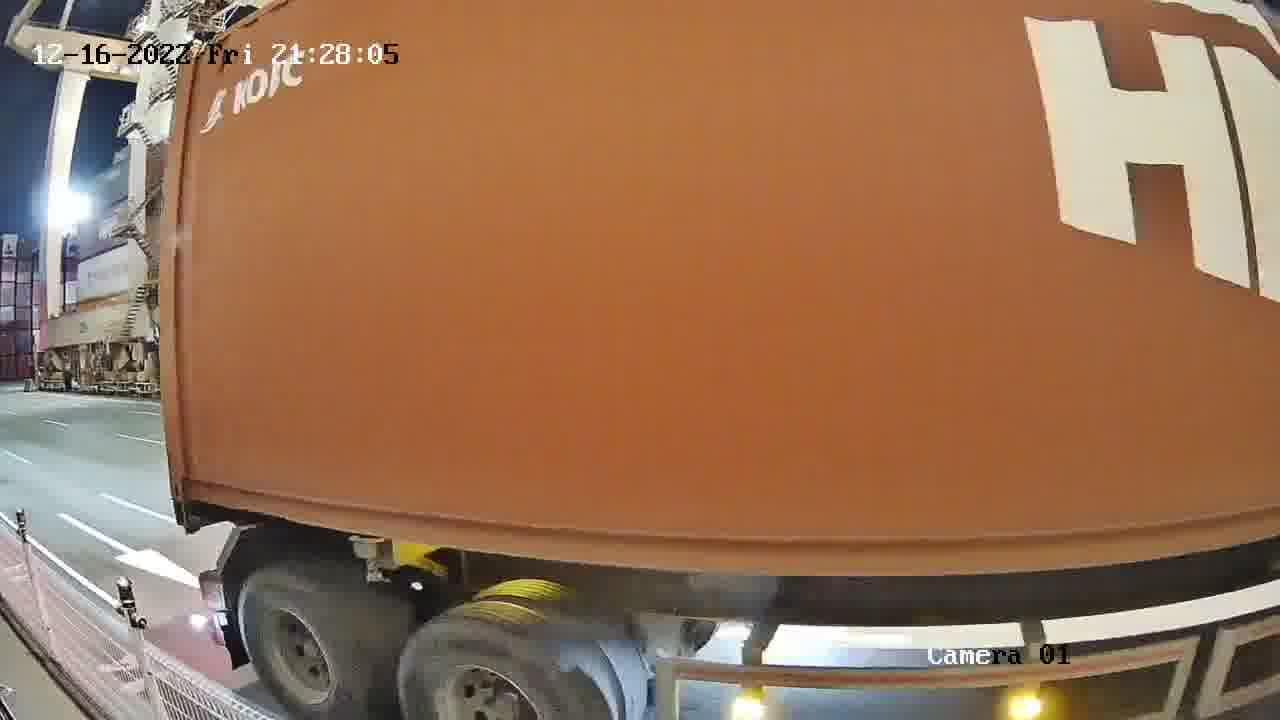Cone: (171, 501, 197, 533)
Hole_L: (168, 457, 217, 503)
Tire: (398, 619, 612, 718), (239, 572, 363, 718)
